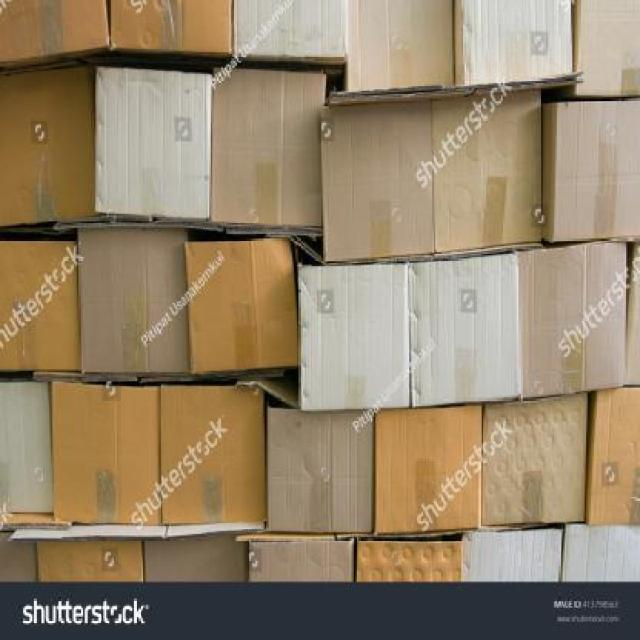BoxFace: (208, 68, 328, 228), (434, 83, 544, 254), (95, 65, 212, 222), (324, 98, 434, 262), (78, 224, 194, 374), (518, 240, 628, 397), (409, 255, 520, 408), (299, 263, 410, 412), (52, 378, 162, 528), (0, 68, 100, 227), (186, 238, 300, 372), (160, 384, 266, 526), (374, 405, 483, 530), (267, 406, 373, 532), (482, 395, 586, 523), (549, 101, 640, 242), (0, 238, 82, 372), (346, 0, 453, 95), (462, 0, 573, 85), (108, 0, 232, 60), (0, 0, 109, 68), (232, 0, 350, 62), (0, 380, 54, 514), (587, 386, 640, 521), (575, 0, 640, 97)
